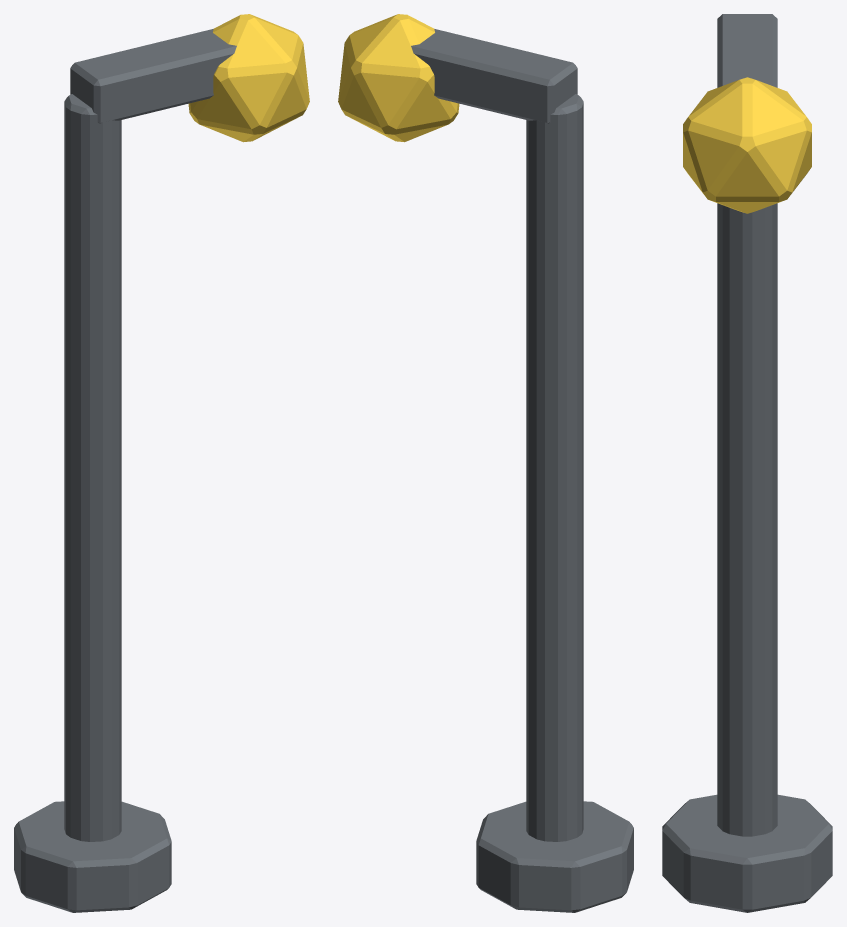
Rendered from lamp_post.glb.
3 views of the same model, side by side, from view 1: azimuth 30°, elevation 25°; view 2: azimuth 150°, elevation 25°; view 3: azimuth 270°, elevation 25° (orthographic). The views are drawn at different scales.
Visible parts, largest first — view 1: lamp_post; view 2: lamp_post; view 3: lamp_post.
Part boxes in pixels (x1,y1,x2,y2): lamp_post: (14, 14, 309, 912); lamp_post: (338, 14, 633, 912); lamp_post: (662, 14, 832, 912).
Size of the model in its own units: 0.2538 by 0.7206 by 0.1269.
